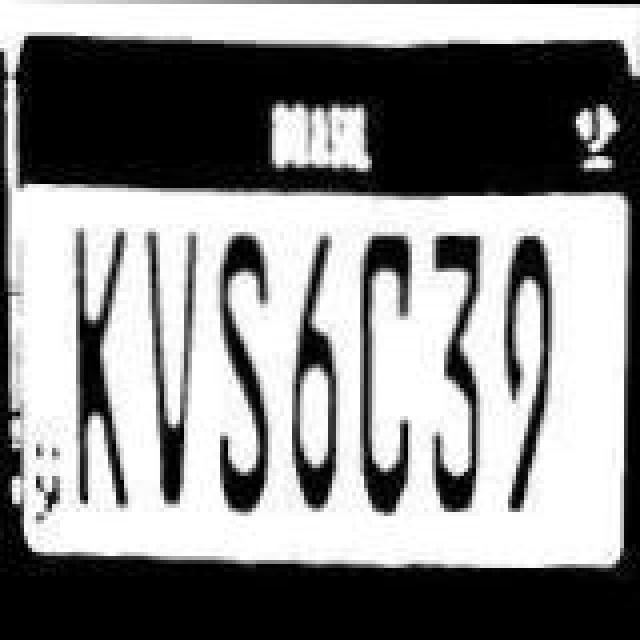3: (424, 220, 484, 512)
6: (286, 226, 342, 514)
9: (492, 232, 568, 520)
C: (352, 222, 428, 518)
K: (62, 222, 142, 514)
S: (210, 222, 282, 518)
V: (138, 222, 210, 518)
